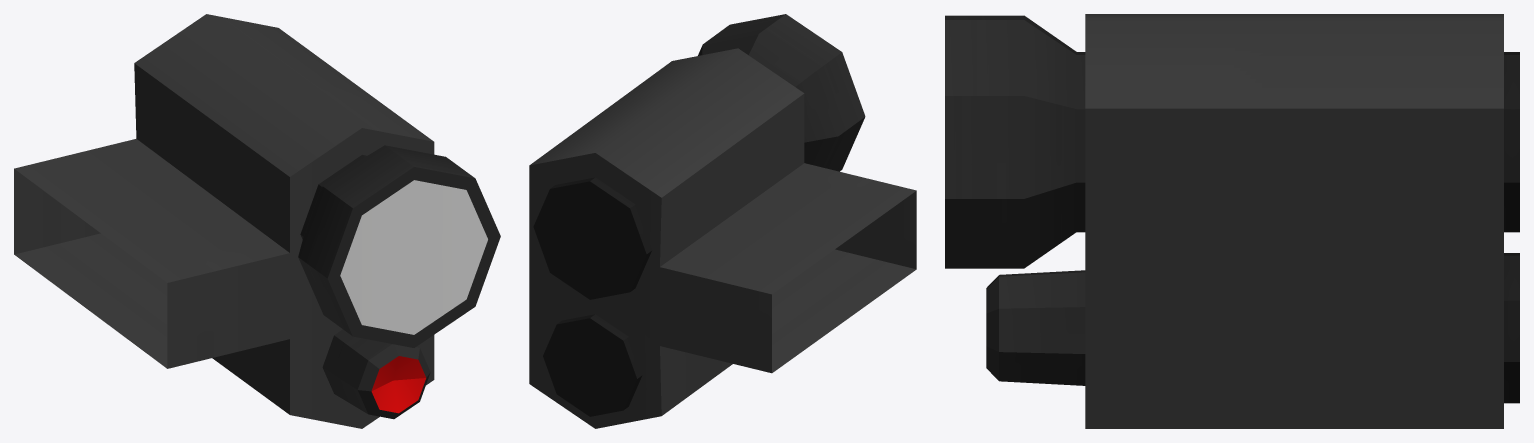
Rendered from MediumLaserCombo_mesh.fbx.
3 views of the same model, side by side, from view 1: azimuth 30°, elevation 25°; view 2: azimuth 150°, elevation 25°; view 3: azimuth 270°, elevation 25° (orthographic). The views are drawn at different scales.
Visible parts, largest first — view 1: MediumLaserCombo_mesh; view 2: MediumLaserCombo_mesh; view 3: MediumLaserCombo_mesh.
Boxes of the visible parts, x1,y1,x2,y2 form: MediumLaserCombo_mesh: [14, 14, 500, 428]; MediumLaserCombo_mesh: [529, 14, 916, 428]; MediumLaserCombo_mesh: [945, 14, 1519, 428].
Bounding box in the file's own units: 3.62 × 3.7 × 4.76.
